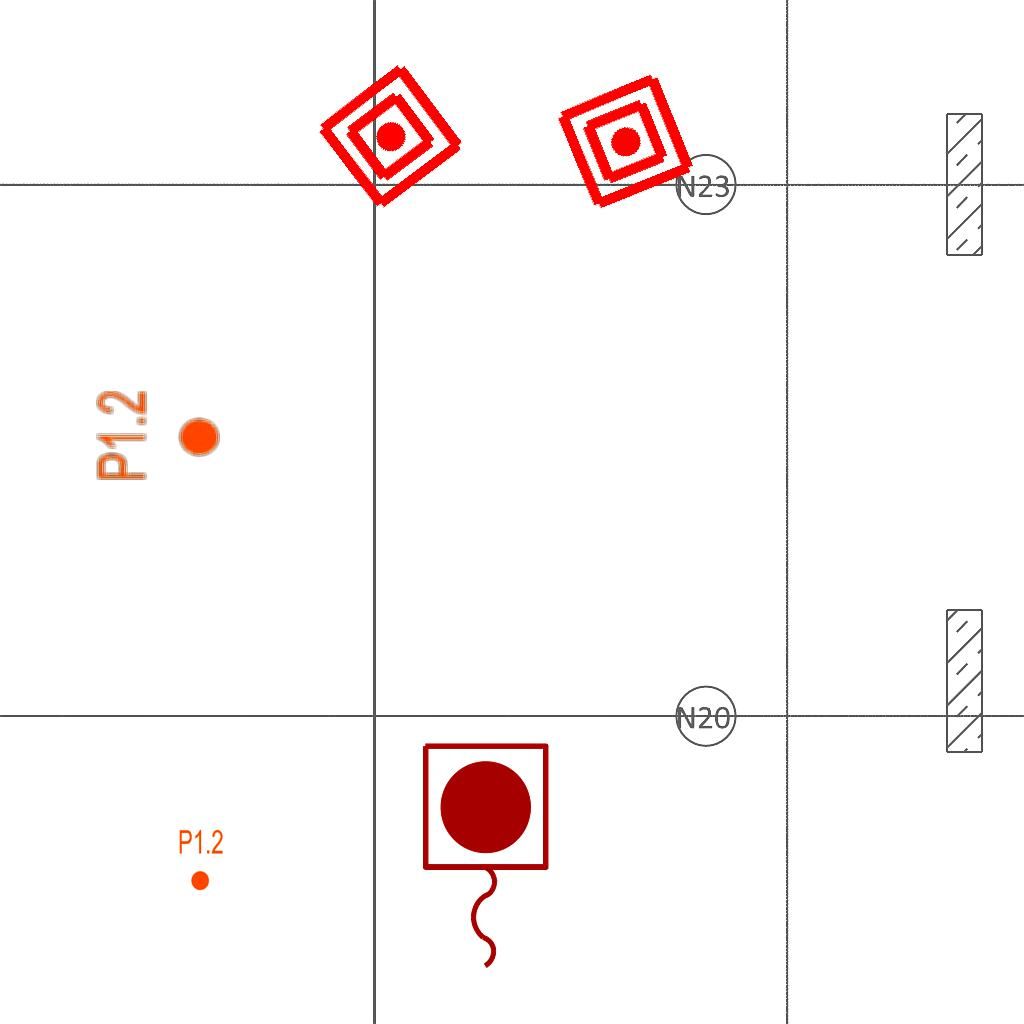Downlight_LED_Einbauleuchten_Flur: (94, 389, 222, 482), (178, 828, 224, 892)
NAM-Nichtautomatischer_Melder: (311, 57, 470, 216), (551, 67, 700, 216)
Zugtaster: (412, 735, 556, 979)
